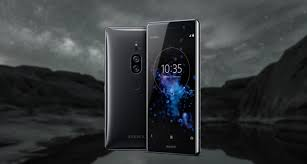sony: (104, 17, 205, 159)
